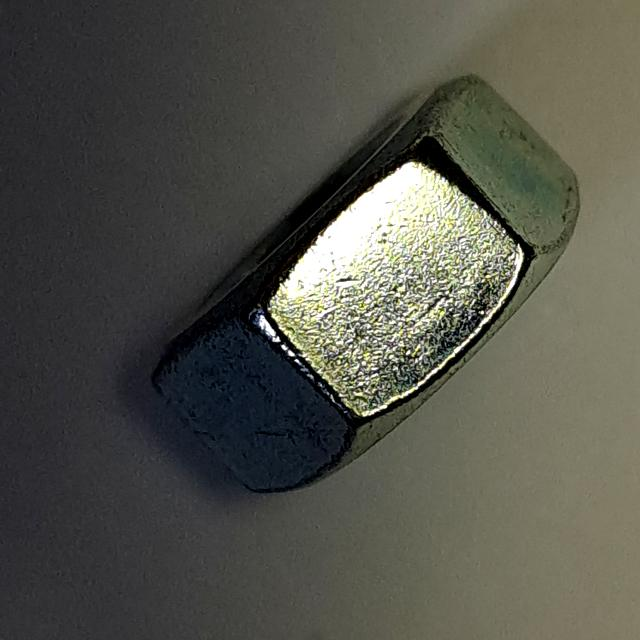Side_Excellent: (141, 61, 594, 508)
